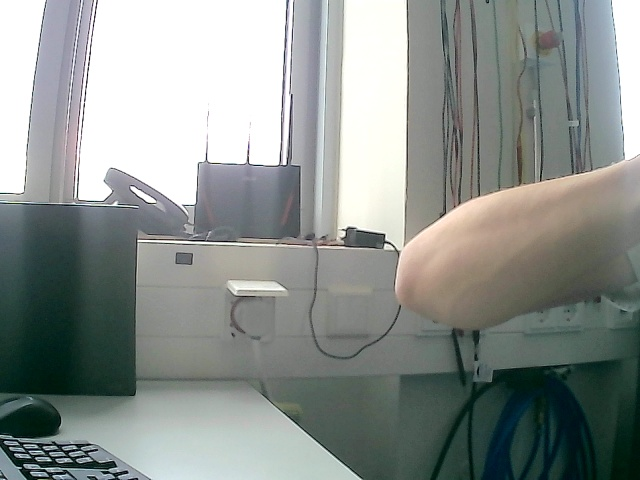no_gesture: (393, 153, 639, 332)
